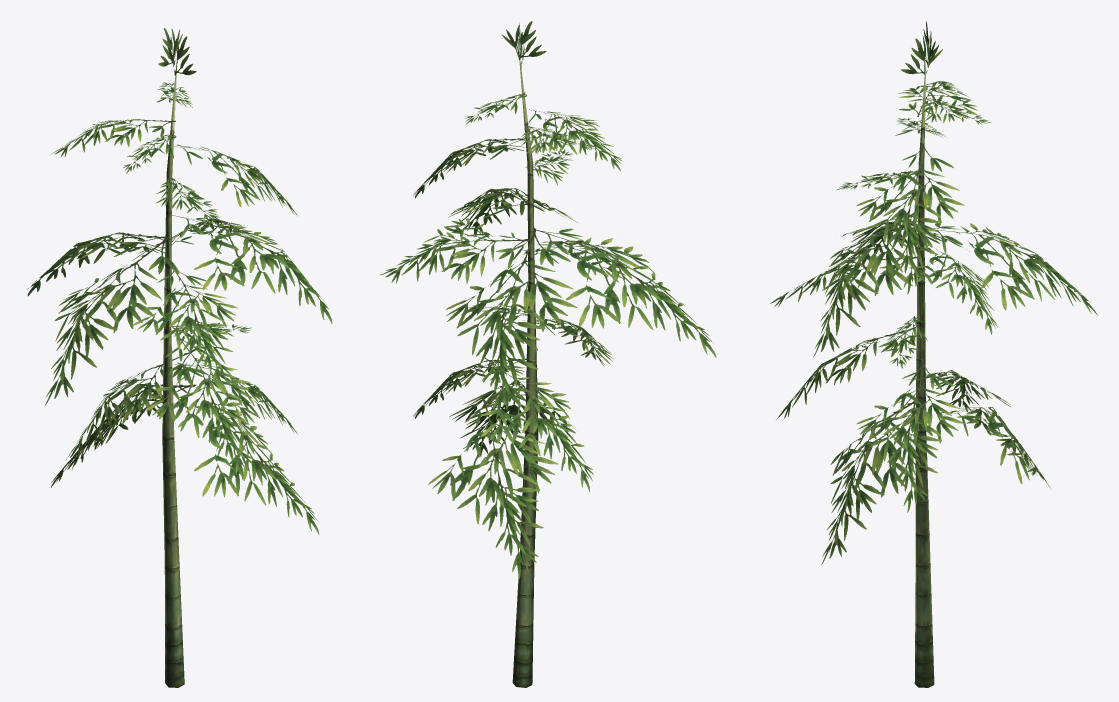
The model's file is C5_BamBoo_2.FBX.
3 renders of one model, left to right at view 1: azimuth 30°, elevation 25°; view 2: azimuth 150°, elevation 25°; view 3: azimuth 270°, elevation 25°, orthographic.
Parts seen in each view (by area): view 1: C5_BamBoo_2; view 2: C5_BamBoo_2; view 3: C5_BamBoo_2.
Boxes of the visible parts, left/top/right/bottom form: C5_BamBoo_2: left=27, top=28, right=332, bottom=687; C5_BamBoo_2: left=380, top=21, right=716, bottom=687; C5_BamBoo_2: left=770, top=21, right=1097, bottom=687.
Bounding box in the file's own units: 378 × 825 × 394.
